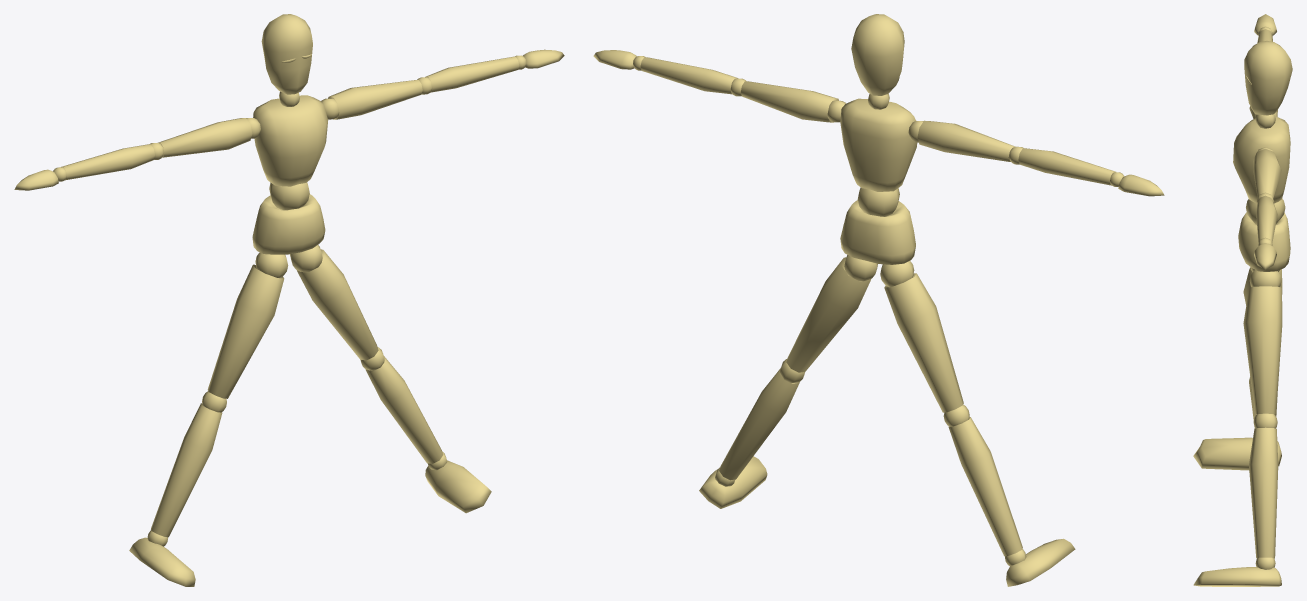
Rendered from MannaquinBlink.dae.
The picture shows the model from 3 angles, left to right: view 1: azimuth 30°, elevation 25°; view 2: azimuth 150°, elevation 25°; view 3: azimuth 270°, elevation 25°; orthographic projection. The views are drawn at different scales.
Parts seen in each view (by area): view 1: Cylinder_003, Cylinder_002, Cylinder_001, Cylinder_006, Cylinder, Sphere_004, Cylinder_007, Cylinder_004, Cylinder_009, Sphere_014, Sphere, Cylinder_005 (+2 smaller); view 2: Cylinder_003, Cylinder_002, Cylinder_001, Cylinder_006, Cylinder, Sphere_004, Cylinder_007, Cylinder_004, Cylinder_009, Cylinder_005, Cylinder_008, Sphere_014 (+3 smaller); view 3: Cylinder_006, Cylinder_007, Cylinder_003, Sphere_004, Cylinder_002, Sphere, Sphere_014, Cylinder_009, Cylinder_008, Sphere_016, Sphere_009, Cylinder_001 (+1 smaller).
Part boxes in pixels (box(x1,y1,x2,y2)): Cylinder_003: box(246, 91, 339, 186); Cylinder_002: box(252, 182, 325, 277); Cylinder_001: box(202, 264, 284, 412); Cylinder_006: box(297, 249, 384, 370); Cylinder: box(151, 403, 222, 537); Sphere_004: box(261, 14, 312, 94); Cylinder_007: box(365, 356, 443, 463); Cylinder_004: box(149, 118, 252, 159); Cylinder_009: box(328, 77, 432, 119); Sphere_014: box(425, 451, 491, 513); Sphere: box(129, 530, 195, 586); Cylinder_005: box(61, 144, 154, 180); Cylinder_003: box(827, 94, 923, 191); Cylinder_002: box(840, 187, 915, 287); Cylinder_001: box(884, 273, 969, 426); Cylinder_006: box(780, 257, 870, 383); Cylinder: box(948, 417, 1022, 556); Sphere_004: box(851, 14, 904, 95); Cylinder_007: box(719, 368, 799, 480); Cylinder_004: box(917, 120, 1023, 164); Cylinder_009: box(730, 78, 838, 122); Cylinder_005: box(1018, 148, 1115, 185); Cylinder_008: box(640, 57, 738, 94); Sphere_014: box(699, 456, 767, 508); Cylinder_006: box(1243, 286, 1282, 428); Cylinder_007: box(1249, 427, 1278, 558); Cylinder_003: box(1233, 114, 1290, 203); Sphere_004: box(1244, 41, 1292, 115); Cylinder_002: box(1238, 198, 1290, 286); Sphere: box(1193, 437, 1281, 470); Sphere_014: box(1193, 557, 1281, 586); Cylinder_009: box(1253, 149, 1281, 202); Cylinder_008: box(1256, 195, 1277, 243); Sphere_016: box(1254, 237, 1276, 269); Sphere_009: box(1254, 14, 1276, 35); Cylinder_001: box(1243, 268, 1282, 305).
Size of the model in its own units: 14.87 by 2.47 by 13.31.
